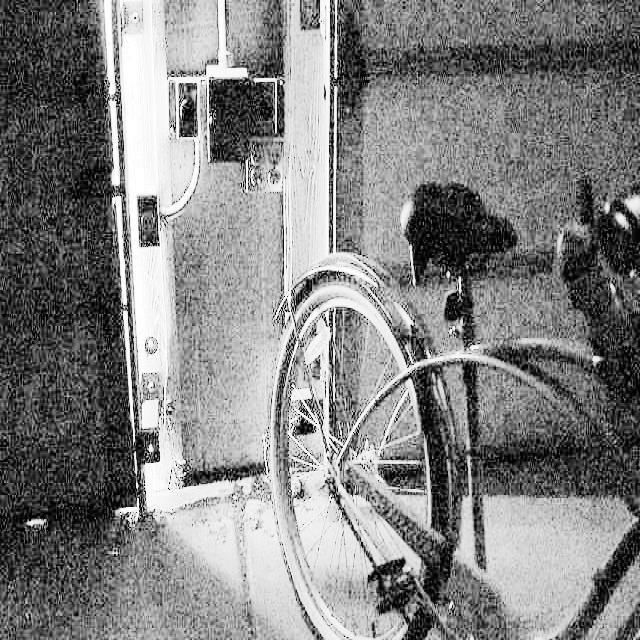Bicycle: (250, 198, 640, 620)
